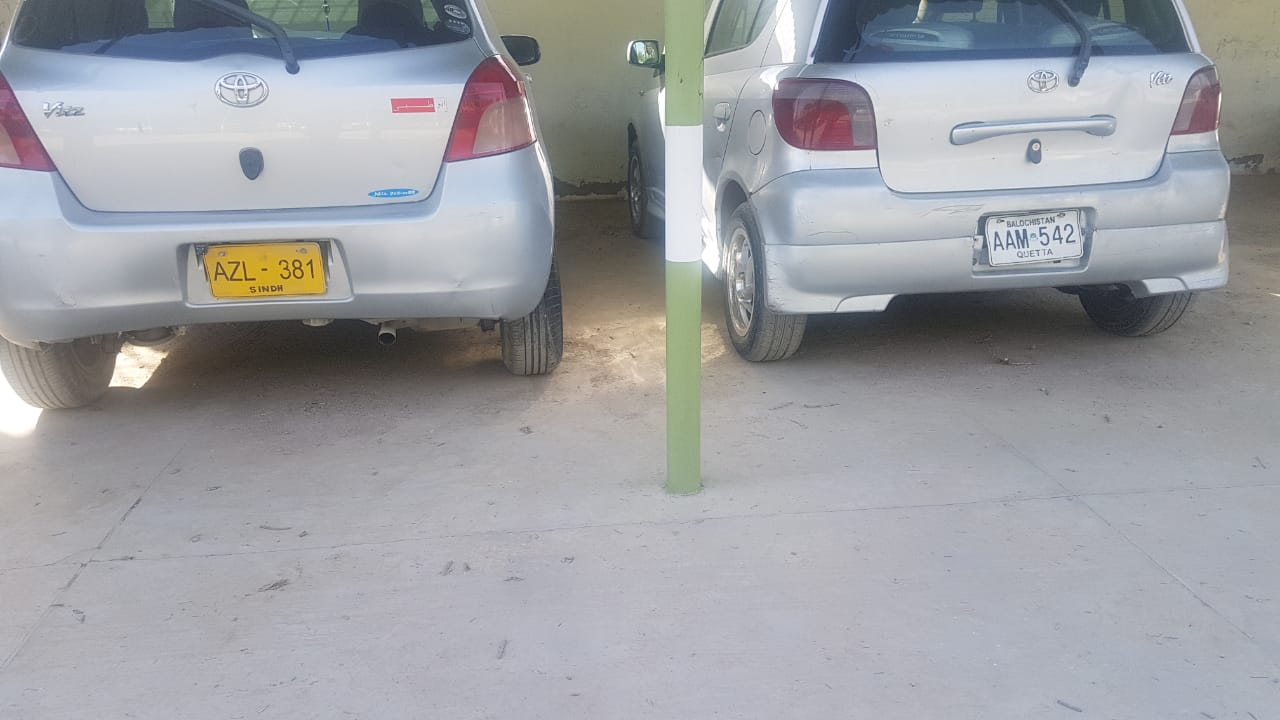license plate: (201, 245, 330, 296), (984, 215, 1085, 265)
